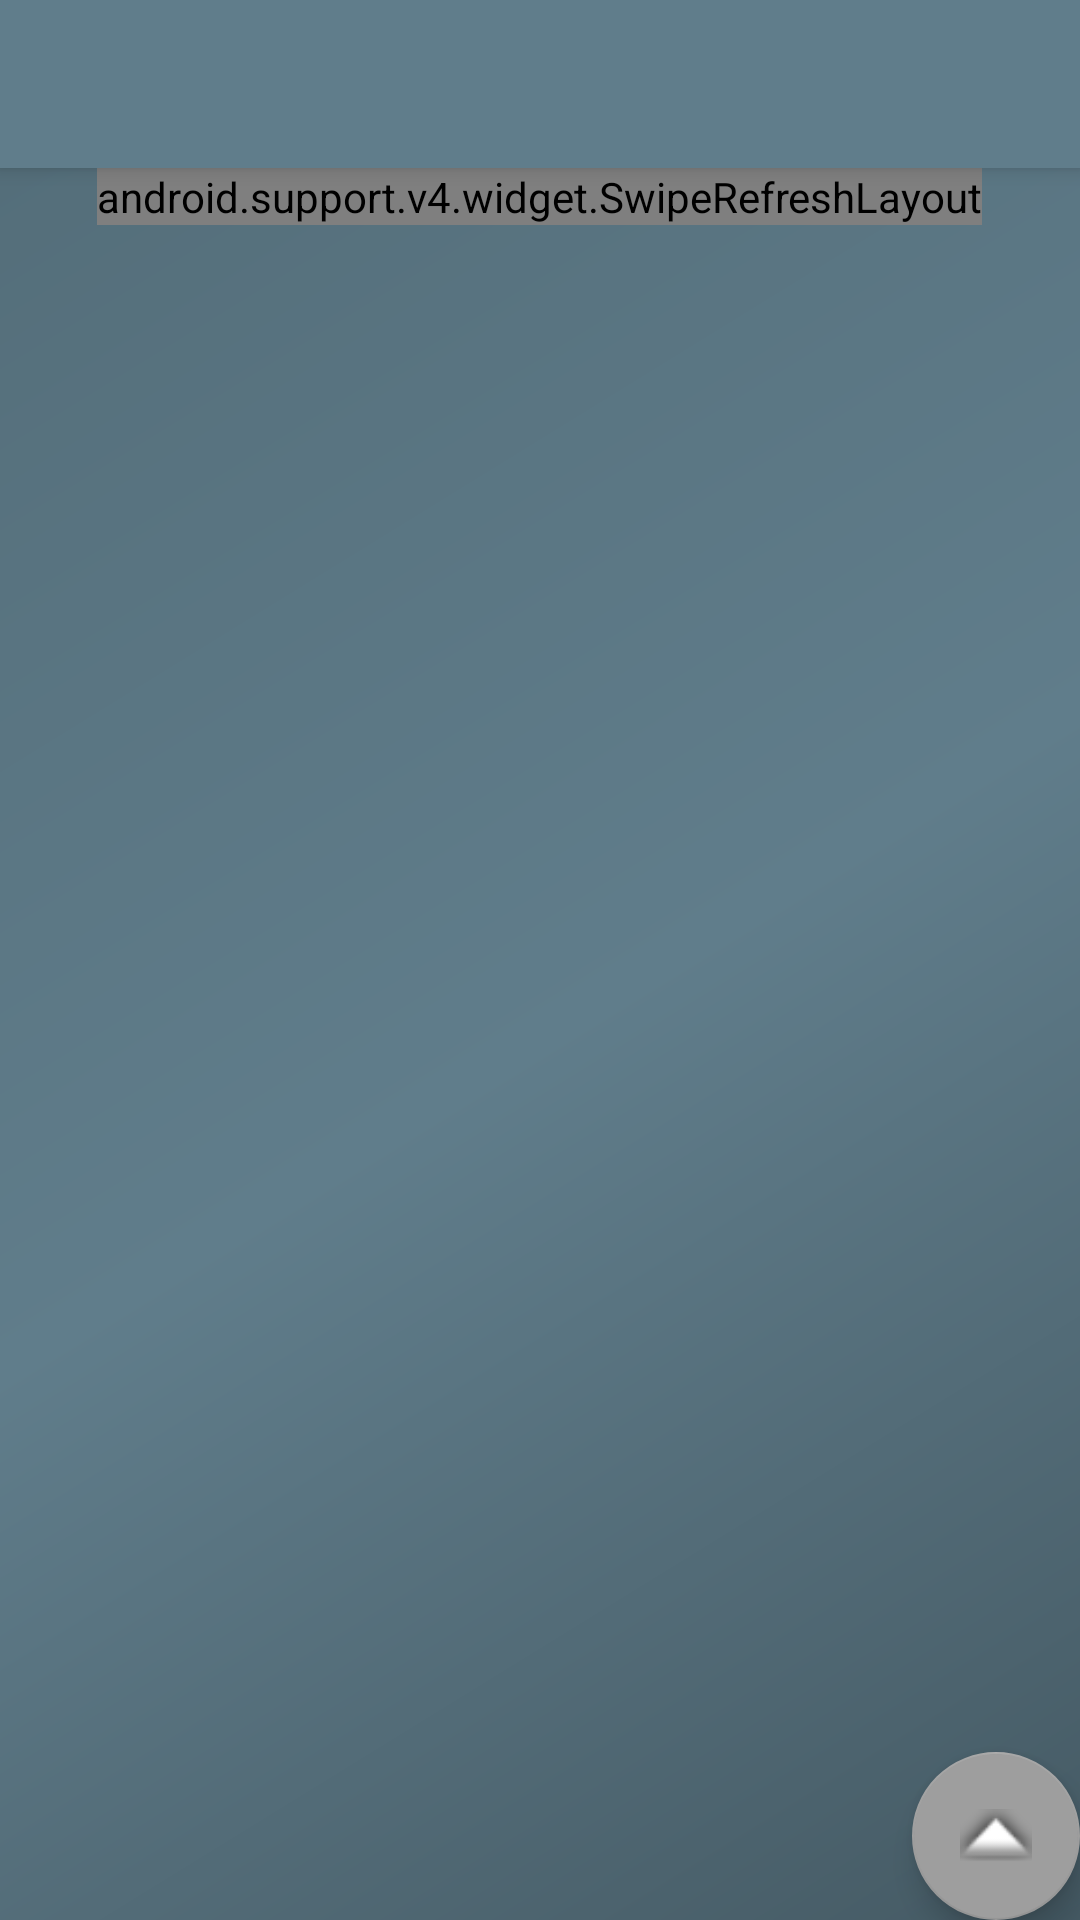

Screen size 1080 × 1920. Icon name, then its box in pixels as bbox(x1, y1, x2, y2):
arrow up float: bbox(912, 1752, 1080, 1920)
